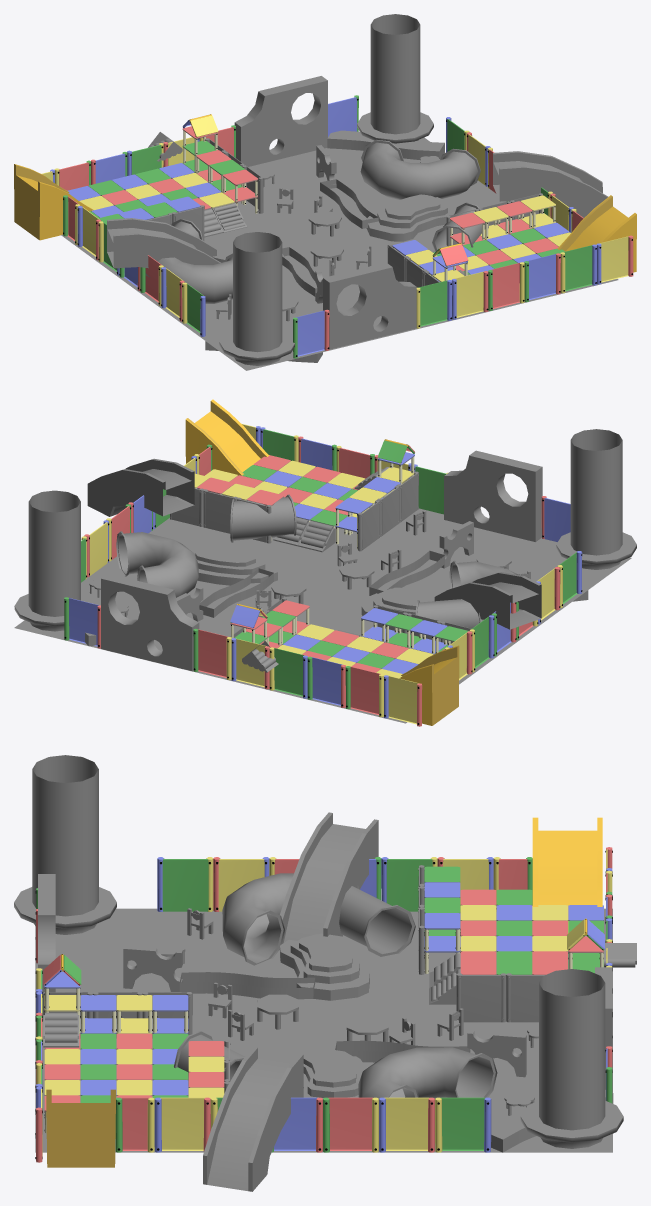
File: map_ex_ver160414.FBX
3 views of the same model, one above another, from view 1: azimuth 30°, elevation 25°; view 2: azimuth 150°, elevation 25°; view 3: azimuth 270°, elevation 25° (orthographic). The views are drawn at different scales.
Visible parts, largest first — view 1: Plane001, Cylinder009, Cylinder008, Box034, Box035, Cylinder020, Tube004, Tube003, Box262, Box165, Box128, Cylinder013 (+33 smaller); view 2: Plane001, Cylinder009, Cylinder008, Box035, Box034, Tube004, Cylinder020, Tube003, Box128, Box262, Box165, Cylinder019 (+43 smaller); view 3: Plane001, Cylinder008, Cylinder009, Tube004, Tube003, Cylinder020, Box262, Box128, Cylinder013, Box114, Cylinder012, Box288 (+37 smaller).
Part boxes in pixels (x1=…): Plane001: x1=61, y1=137, x2=618, y2=370; Cylinder009: x1=219, y1=232, x2=294, y2=365; Cylinder008: x1=357, y1=14, x2=433, y2=143; Box034: x1=234, y1=76, x2=327, y2=166; Box035: x1=323, y1=262, x2=416, y2=349; Cylinder020: x1=360, y1=139, x2=480, y2=199; Tube004: x1=493, y1=151, x2=608, y2=217; Tube003: x1=107, y1=218, x2=220, y2=268; Box262: x1=14, y1=164, x2=93, y2=240; Box165: x1=366, y1=194, x2=455, y2=241; Box128: x1=557, y1=195, x2=636, y2=272; Cylinder013: x1=145, y1=253, x2=232, y2=303; Plane001: x1=14, y1=508, x2=631, y2=723; Cylinder009: x1=556, y1=429, x2=636, y2=569; Cylinder008: x1=14, y1=490, x2=93, y2=631; Box035: x1=444, y1=450, x2=542, y2=541; Box034: x1=101, y1=573, x2=199, y2=671; Tube004: x1=87, y1=458, x2=194, y2=516; Cylinder020: x1=116, y1=531, x2=198, y2=597; Tube003: x1=434, y1=572, x2=541, y2=629; Box128: x1=185, y1=399, x2=269, y2=475; Box262: x1=399, y1=645, x2=459, y2=725; Box165: x1=189, y1=543, x2=277, y2=585; Cylinder019: x1=230, y1=494, x2=296, y2=542; Plane001: x1=35, y1=908, x2=612, y2=1152; Cylinder008: x1=520, y1=969, x2=623, y2=1148; Cylinder009: x1=14, y1=755, x2=116, y2=934; Tube004: x1=203, y1=1047, x2=303, y2=1191; Tube003: x1=279, y1=812, x2=378, y2=949; Cylinder020: x1=358, y1=1047, x2=497, y2=1098; Box262: x1=532, y1=817, x2=602, y2=933; Box128: x1=46, y1=1089, x2=115, y2=1167; Cylinder013: x1=222, y1=873, x2=293, y2=965; Box114: x1=280, y1=933, x2=369, y2=1000; Cylinder012: x1=339, y1=885, x2=415, y2=956; Box288: x1=435, y1=1097, x2=491, y2=1152.
Size of the model in its own units: 123 by 32.57 by 108.
